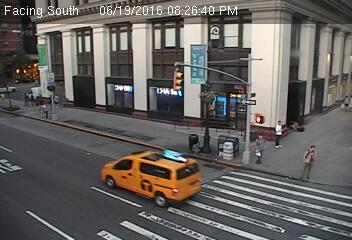neg: (91, 58, 118, 95), (166, 88, 190, 120), (224, 56, 246, 85), (19, 44, 39, 70), (46, 41, 65, 68), (142, 31, 160, 55), (203, 117, 219, 139), (298, 116, 313, 137), (185, 33, 200, 54), (92, 27, 104, 43)
pos: (296, 142, 325, 181), (246, 132, 270, 164), (267, 116, 291, 148), (335, 91, 351, 112), (47, 91, 63, 112), (13, 89, 28, 109), (26, 89, 41, 109), (38, 100, 49, 116)
